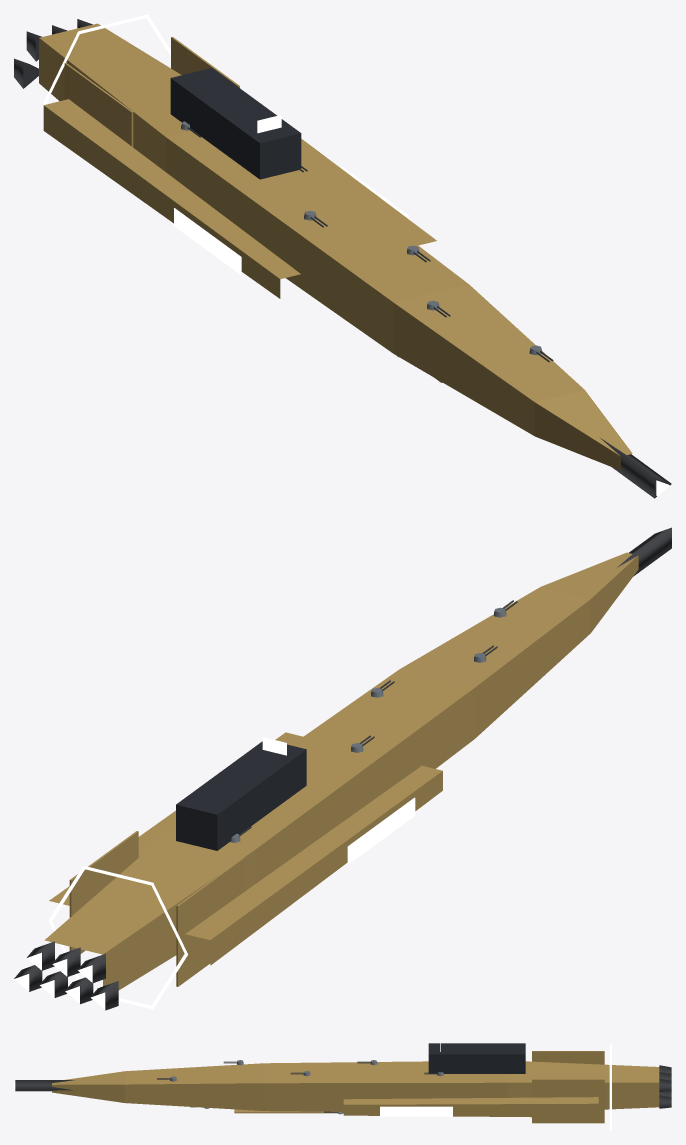
File: space_ship_battleship_mk7_lod2.glb
3 views of the same model, one above another, from view 1: azimuth 30°, elevation 25°; view 2: azimuth 150°, elevation 25°; view 3: azimuth 270°, elevation 25° (orthographic). The views are drawn at different scales.
Visible parts, largest first — view 1: body, hangar_r, main_gun; view 2: body, hangar_r, main_gun; view 3: body, hangar_l, main_gun, engine_5.
Part boxes in pixels (x1,y1,x2,y2): body: (39, 14, 632, 470); hangar_r: (174, 208, 241, 274); main_gun: (600, 438, 671, 498); body: (44, 552, 638, 1009); hangar_r: (347, 797, 415, 864); main_gun: (617, 527, 671, 576); body: (52, 1039, 659, 1130); hangar_l: (380, 1106, 452, 1116); main_gun: (14, 1080, 74, 1091); engine_5: (659, 1078, 671, 1092).
Bounding box in the file's own units: 28.5 × 23.54 × 177.
